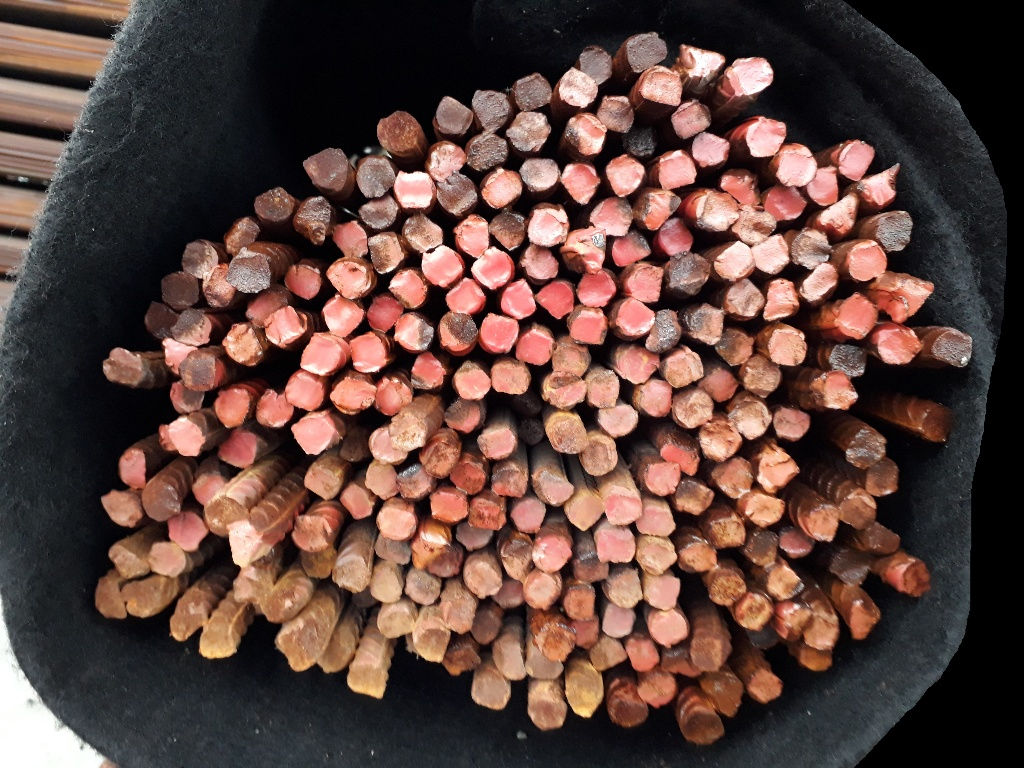dipstick: (885, 276, 933, 321), (303, 148, 347, 190), (277, 629, 321, 670), (710, 457, 754, 498), (836, 295, 876, 339), (229, 521, 270, 563), (640, 66, 683, 106), (330, 378, 377, 414), (819, 193, 860, 234), (699, 421, 741, 461), (507, 111, 550, 150), (732, 205, 775, 244), (694, 193, 738, 231), (728, 56, 772, 94), (481, 169, 522, 209), (224, 324, 262, 367), (291, 417, 334, 455), (667, 254, 710, 292), (589, 198, 632, 236), (813, 371, 856, 409), (472, 90, 512, 130), (471, 248, 511, 288), (758, 453, 798, 493), (265, 305, 304, 346), (422, 247, 463, 286), (205, 497, 247, 535), (437, 174, 476, 214), (704, 678, 744, 717), (103, 348, 144, 386), (294, 196, 330, 239), (543, 372, 586, 408), (876, 329, 919, 365), (356, 158, 395, 197), (378, 111, 417, 150), (730, 400, 769, 439), (559, 68, 598, 107), (628, 33, 667, 72), (746, 118, 785, 157), (800, 264, 839, 303), (301, 335, 341, 373), (101, 490, 141, 528), (323, 298, 363, 336), (776, 147, 816, 185), (534, 623, 575, 660), (845, 430, 886, 467), (228, 256, 270, 292), (764, 185, 806, 221), (679, 711, 723, 745), (646, 309, 680, 353), (679, 43, 723, 77), (168, 512, 206, 551), (722, 169, 761, 207), (791, 229, 829, 268), (292, 515, 332, 552), (580, 435, 617, 475), (606, 156, 643, 196), (565, 116, 605, 153), (671, 101, 711, 138), (723, 280, 764, 316), (714, 242, 755, 278), (142, 484, 180, 522), (440, 312, 478, 350), (435, 97, 473, 135), (674, 389, 712, 427), (327, 260, 366, 297), (427, 142, 466, 179), (454, 215, 489, 256), (545, 419, 587, 453), (218, 429, 255, 467), (395, 171, 433, 208), (489, 213, 527, 250), (552, 338, 589, 376), (577, 270, 615, 307), (752, 235, 789, 273), (285, 374, 324, 410), (122, 581, 161, 617), (735, 591, 771, 630), (850, 242, 886, 281), (562, 164, 597, 204), (765, 279, 799, 320), (691, 638, 733, 671), (94, 577, 126, 620), (161, 272, 198, 309), (234, 568, 271, 605), (537, 281, 574, 318), (182, 241, 218, 279), (513, 73, 551, 109), (861, 167, 897, 205), (876, 212, 912, 250), (468, 134, 507, 169), (932, 331, 971, 366), (637, 672, 677, 706), (619, 349, 659, 383), (528, 210, 568, 244), (214, 389, 250, 426), (421, 442, 458, 478), (405, 214, 441, 251), (369, 427, 407, 462), (447, 278, 485, 313), (651, 610, 689, 645), (637, 539, 675, 574), (687, 305, 722, 343), (768, 330, 806, 365), (172, 310, 211, 344), (578, 47, 612, 86), (571, 231, 603, 272), (375, 380, 411, 416), (350, 336, 386, 372), (395, 315, 431, 351), (567, 681, 603, 717), (617, 299, 653, 335), (644, 193, 680, 229), (597, 97, 633, 133), (224, 218, 259, 255), (390, 271, 425, 308), (839, 143, 874, 180), (168, 418, 202, 456), (480, 313, 518, 347), (501, 280, 535, 318), (523, 571, 557, 609), (660, 442, 698, 476), (666, 353, 704, 387), (691, 132, 729, 166), (347, 665, 386, 698), (358, 195, 397, 228), (376, 508, 416, 540), (429, 490, 469, 522), (489, 362, 529, 394), (596, 406, 637, 437), (162, 339, 198, 374), (257, 391, 292, 427), (570, 309, 606, 344), (627, 266, 663, 301), (745, 359, 780, 395), (894, 559, 929, 595), (767, 564, 803, 599), (255, 187, 292, 221), (284, 265, 321, 299), (149, 542, 186, 576), (658, 154, 695, 188), (746, 492, 783, 526), (516, 332, 554, 365), (597, 529, 635, 562), (585, 368, 618, 406), (612, 232, 650, 265), (109, 545, 148, 577), (369, 233, 401, 272), (831, 549, 870, 581), (203, 266, 233, 307), (180, 355, 215, 390), (717, 329, 752, 364), (840, 493, 875, 528), (406, 569, 440, 605), (389, 415, 425, 449), (333, 223, 367, 259), (568, 496, 604, 530), (449, 462, 486, 495), (521, 158, 558, 191), (502, 541, 535, 578), (605, 493, 642, 526), (865, 458, 898, 495), (805, 611, 838, 648), (528, 697, 566, 729), (807, 165, 838, 204), (445, 398, 480, 432), (368, 297, 402, 332), (659, 218, 693, 253), (334, 558, 370, 591), (369, 566, 402, 602), (522, 245, 558, 278), (590, 638, 626, 671), (532, 537, 568, 570), (677, 481, 713, 514), (638, 380, 671, 416), (776, 603, 809, 639), (145, 302, 177, 339), (304, 467, 341, 499), (644, 463, 681, 495), (744, 529, 776, 566), (476, 430, 516, 459), (466, 562, 500, 596), (397, 465, 431, 499), (409, 353, 443, 387), (193, 471, 226, 506), (365, 464, 398, 499), (473, 677, 509, 709), (410, 537, 446, 569), (774, 409, 810, 441), (118, 449, 146, 490), (378, 607, 415, 638), (495, 642, 526, 679), (808, 503, 839, 540), (416, 628, 449, 662), (626, 637, 659, 671), (608, 572, 642, 605), (537, 472, 573, 503), (638, 505, 674, 536), (829, 345, 866, 375), (850, 600, 879, 638), (199, 629, 238, 657), (170, 608, 203, 641), (703, 368, 736, 401), (748, 669, 781, 702), (441, 597, 473, 631), (340, 484, 372, 518), (710, 573, 744, 605), (469, 499, 505, 529), (455, 521, 492, 550), (610, 698, 647, 727), (301, 547, 335, 578), (646, 577, 680, 608), (428, 547, 463, 577), (455, 369, 490, 399), (574, 553, 609, 583), (375, 536, 411, 565), (709, 518, 745, 547), (679, 543, 716, 571), (512, 500, 545, 531), (564, 585, 594, 619), (490, 468, 525, 497), (602, 605, 634, 636), (171, 381, 204, 411), (471, 610, 500, 644), (780, 527, 814, 556), (444, 647, 479, 675), (263, 590, 295, 620), (867, 524, 899, 554), (922, 406, 950, 440), (494, 580, 525, 608), (527, 655, 562, 679), (570, 618, 597, 649), (798, 646, 831, 670), (158, 424, 176, 451)
